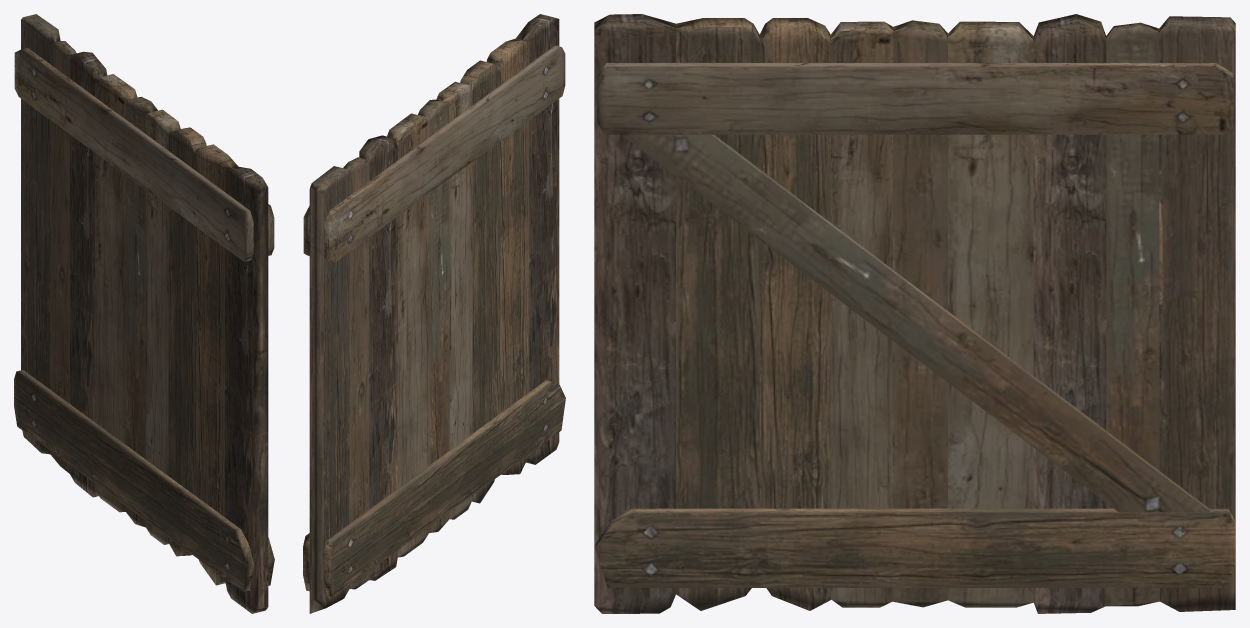
File: cabin_wall_b.glb
The picture shows the model from 3 angles, left to right: view 1: azimuth 30°, elevation 25°; view 2: azimuth 150°, elevation 25°; view 3: azimuth 270°, elevation 25°; orthographic projection. The views are drawn at different scales.
Parts seen in each view (by area): view 1: cabin_wall_b; view 2: cabin_wall_b; view 3: cabin_wall_b.
Boxes of the visible parts, x1=… form: cabin_wall_b: x1=14, y1=14, x2=274, y2=613; cabin_wall_b: x1=303, y1=14, x2=565, y2=613; cabin_wall_b: x1=594, y1=14, x2=1235, y2=613.
Bounding box in the file's own units: 0.2016 × 3.04 × 2.99.
Materials: 1 (1 with a texture image).
